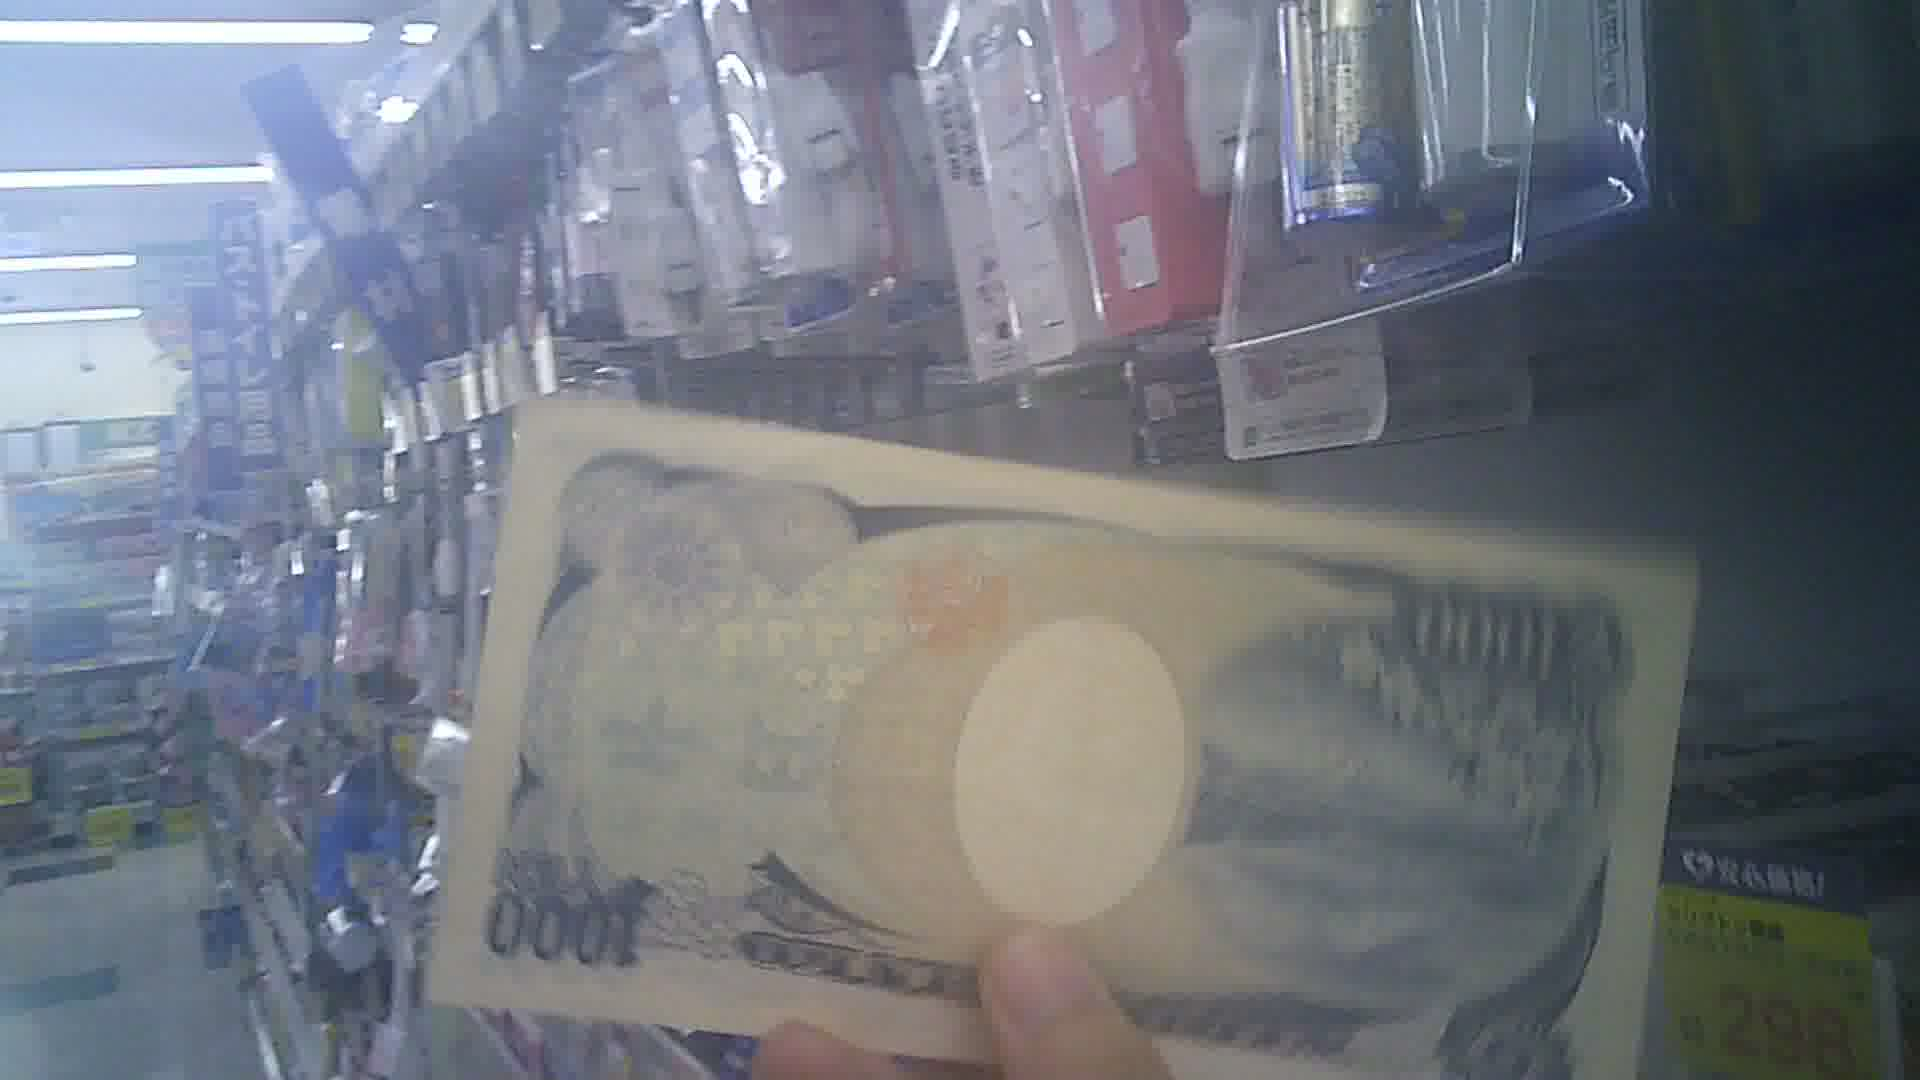1,000 Yen: (436, 390, 1688, 1068)
